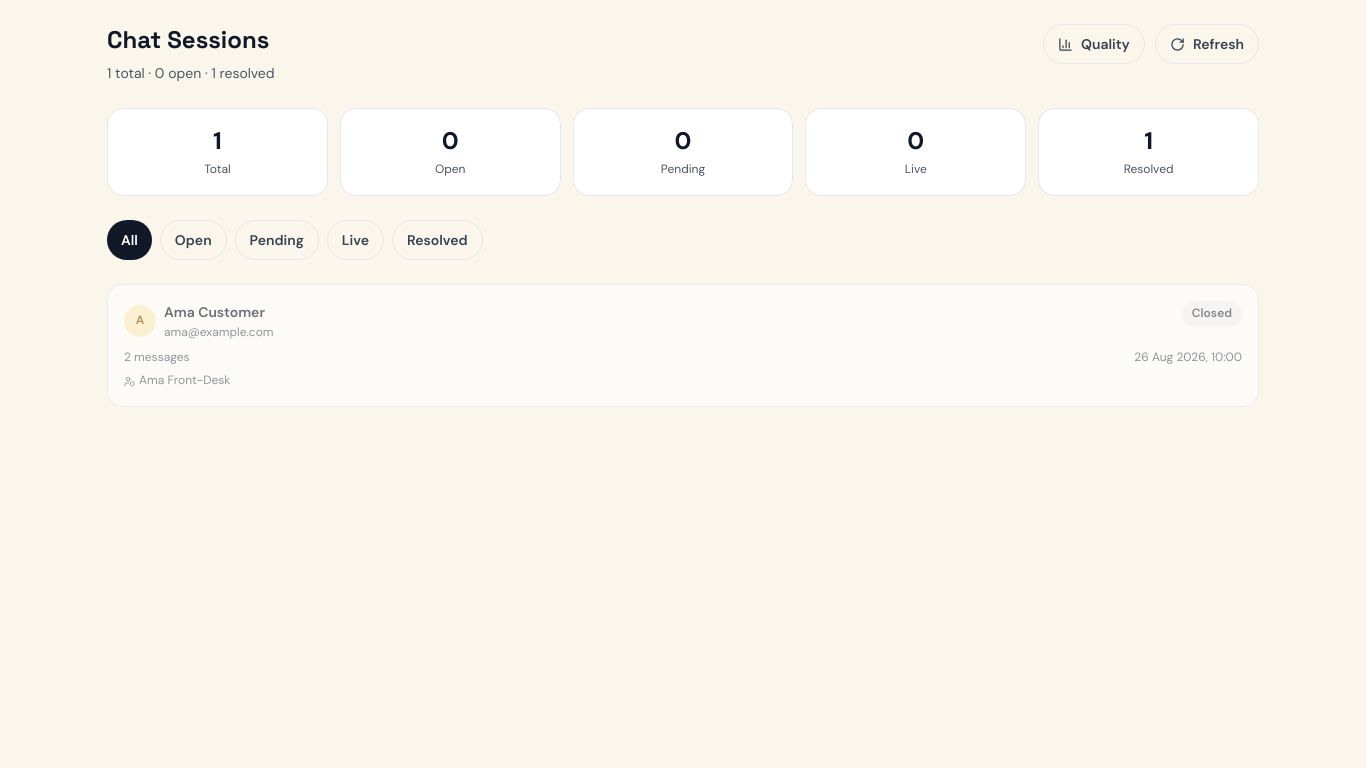
Test case: chat console — customer rating (T69 phase 4) › shows nothing where a conversation went unrated
The image size is (1366, 768).
What coordinates should you click on to do the following:
click the button "Ama Customer"
I would click on:
 (140, 321)
Its box is left=107, top=284, right=1259, bottom=407.
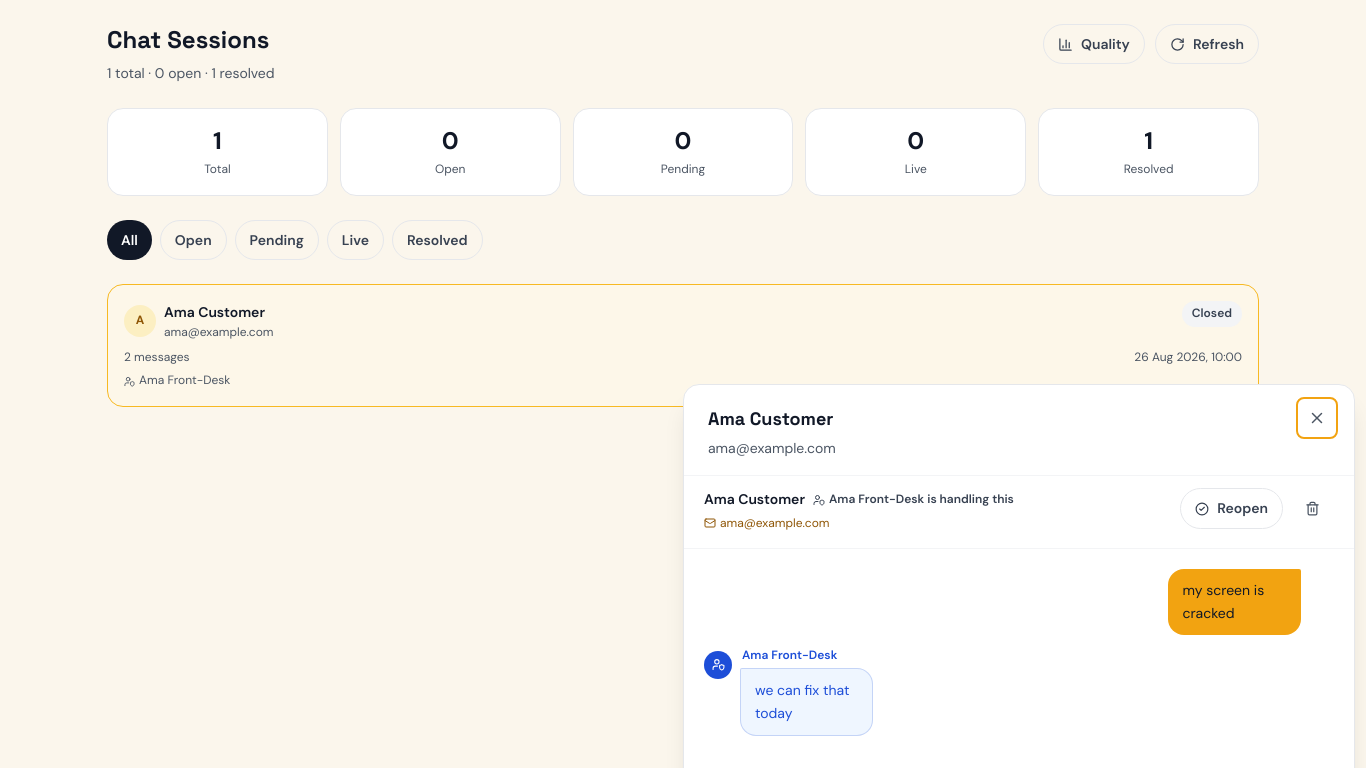
Check: the text "we can fix that today" is shown, box left=740, top=668, right=873, bottom=736
